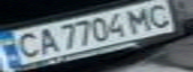0: (90, 15, 115, 43)
4: (106, 10, 130, 38)
7: (54, 20, 78, 51), (72, 18, 93, 46)
A: (30, 25, 60, 55)
C: (6, 29, 45, 60), (142, 1, 181, 29)
M: (121, 3, 160, 35)
